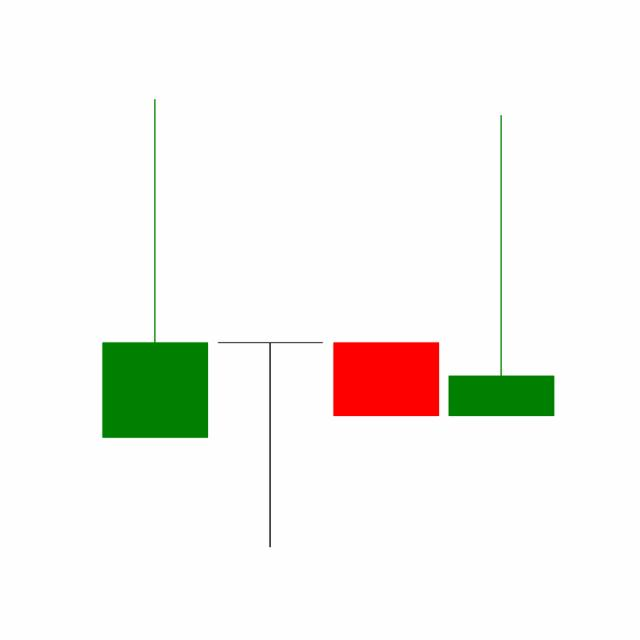Marubozu: (328, 341, 444, 417)
